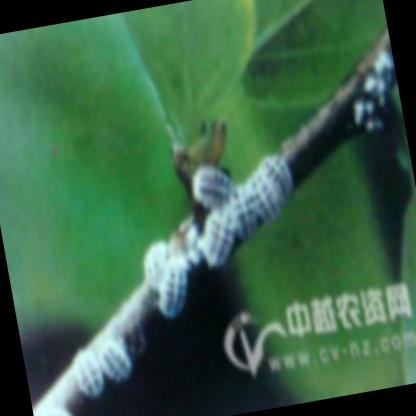mealy bug: (202, 201, 234, 265), (261, 153, 294, 206), (158, 258, 187, 315), (193, 163, 229, 205), (248, 168, 278, 217), (98, 335, 130, 379), (75, 346, 101, 395)
